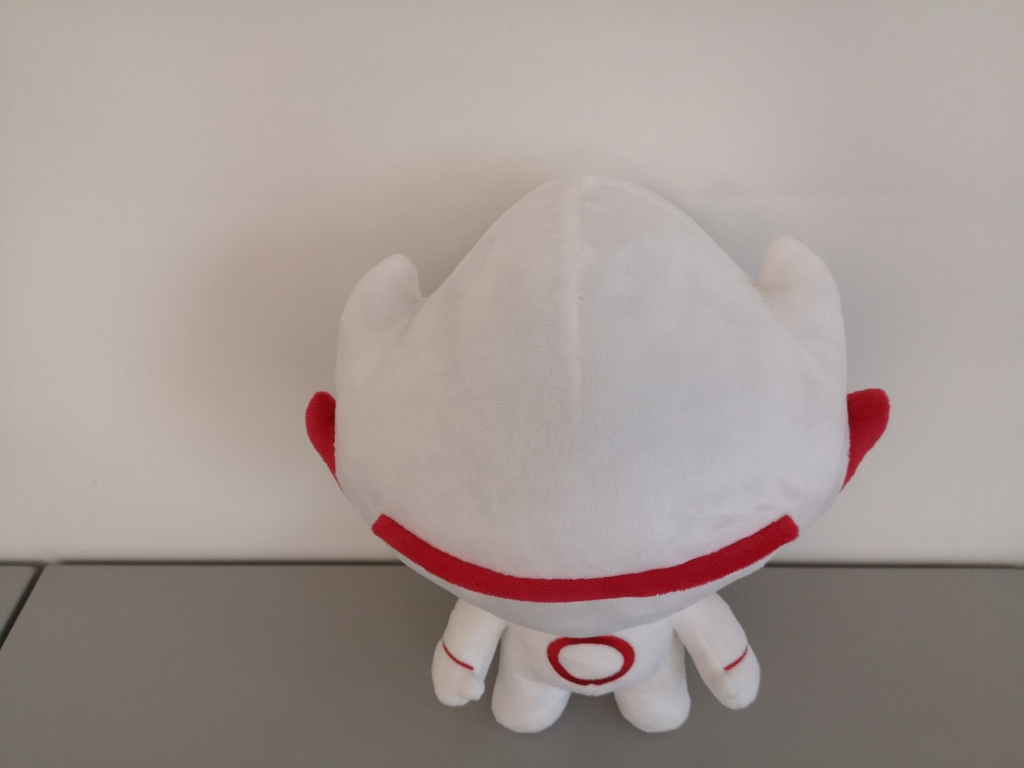yunbao: (257, 146, 910, 743)
